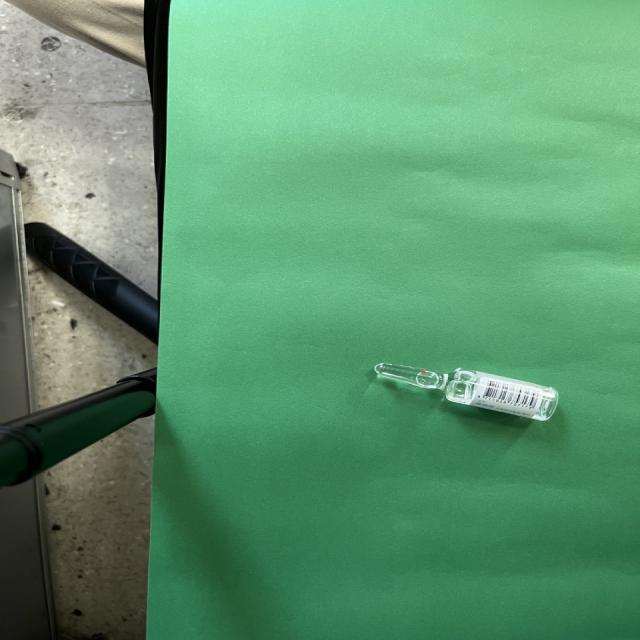Ampoules: (374, 363, 559, 421)
